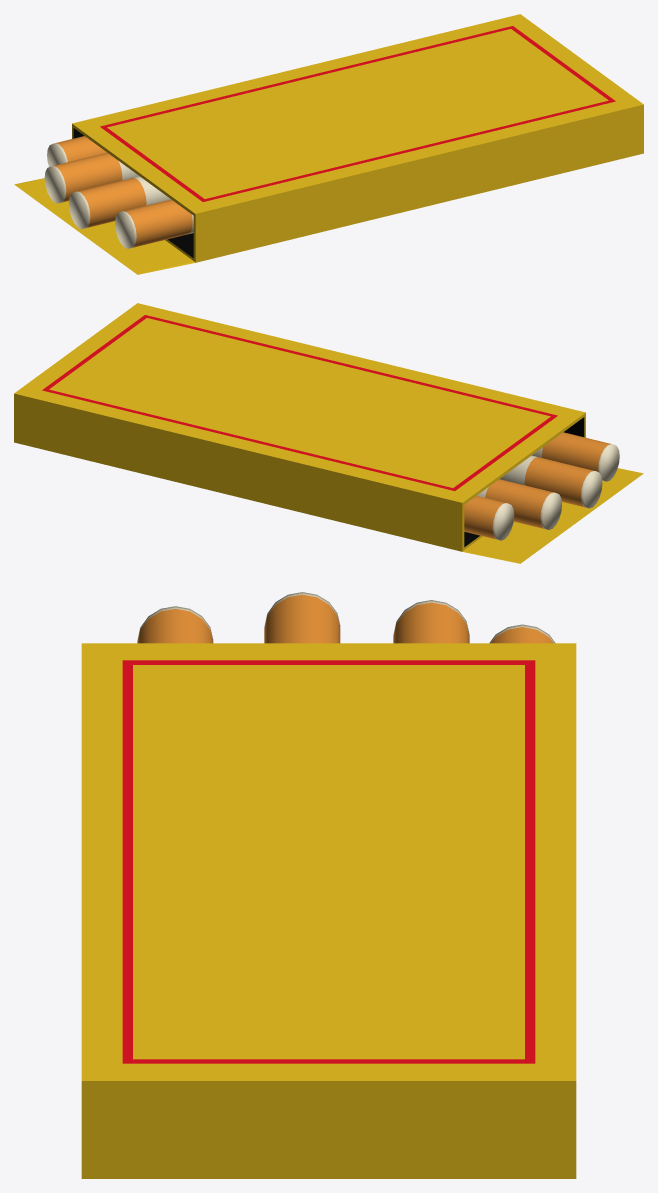
The model's file is CigPacket.fbx.
The picture shows the model from 3 angles, top to bottom: view 1: azimuth 30°, elevation 25°; view 2: azimuth 150°, elevation 25°; view 3: azimuth 270°, elevation 25°; orthographic projection. The views are drawn at different scales.
Visible parts, largest first — view 1: CiggeratePacket; view 2: CiggeratePacket; view 3: CiggeratePacket.
Part boxes in pixels (x1,y1,x2,y2): CiggeratePacket: (14, 14, 643, 274); CiggeratePacket: (14, 303, 643, 563); CiggeratePacket: (81, 592, 576, 1178).
Size of the model in its own units: 34.22 by 3.14 by 14.35.
